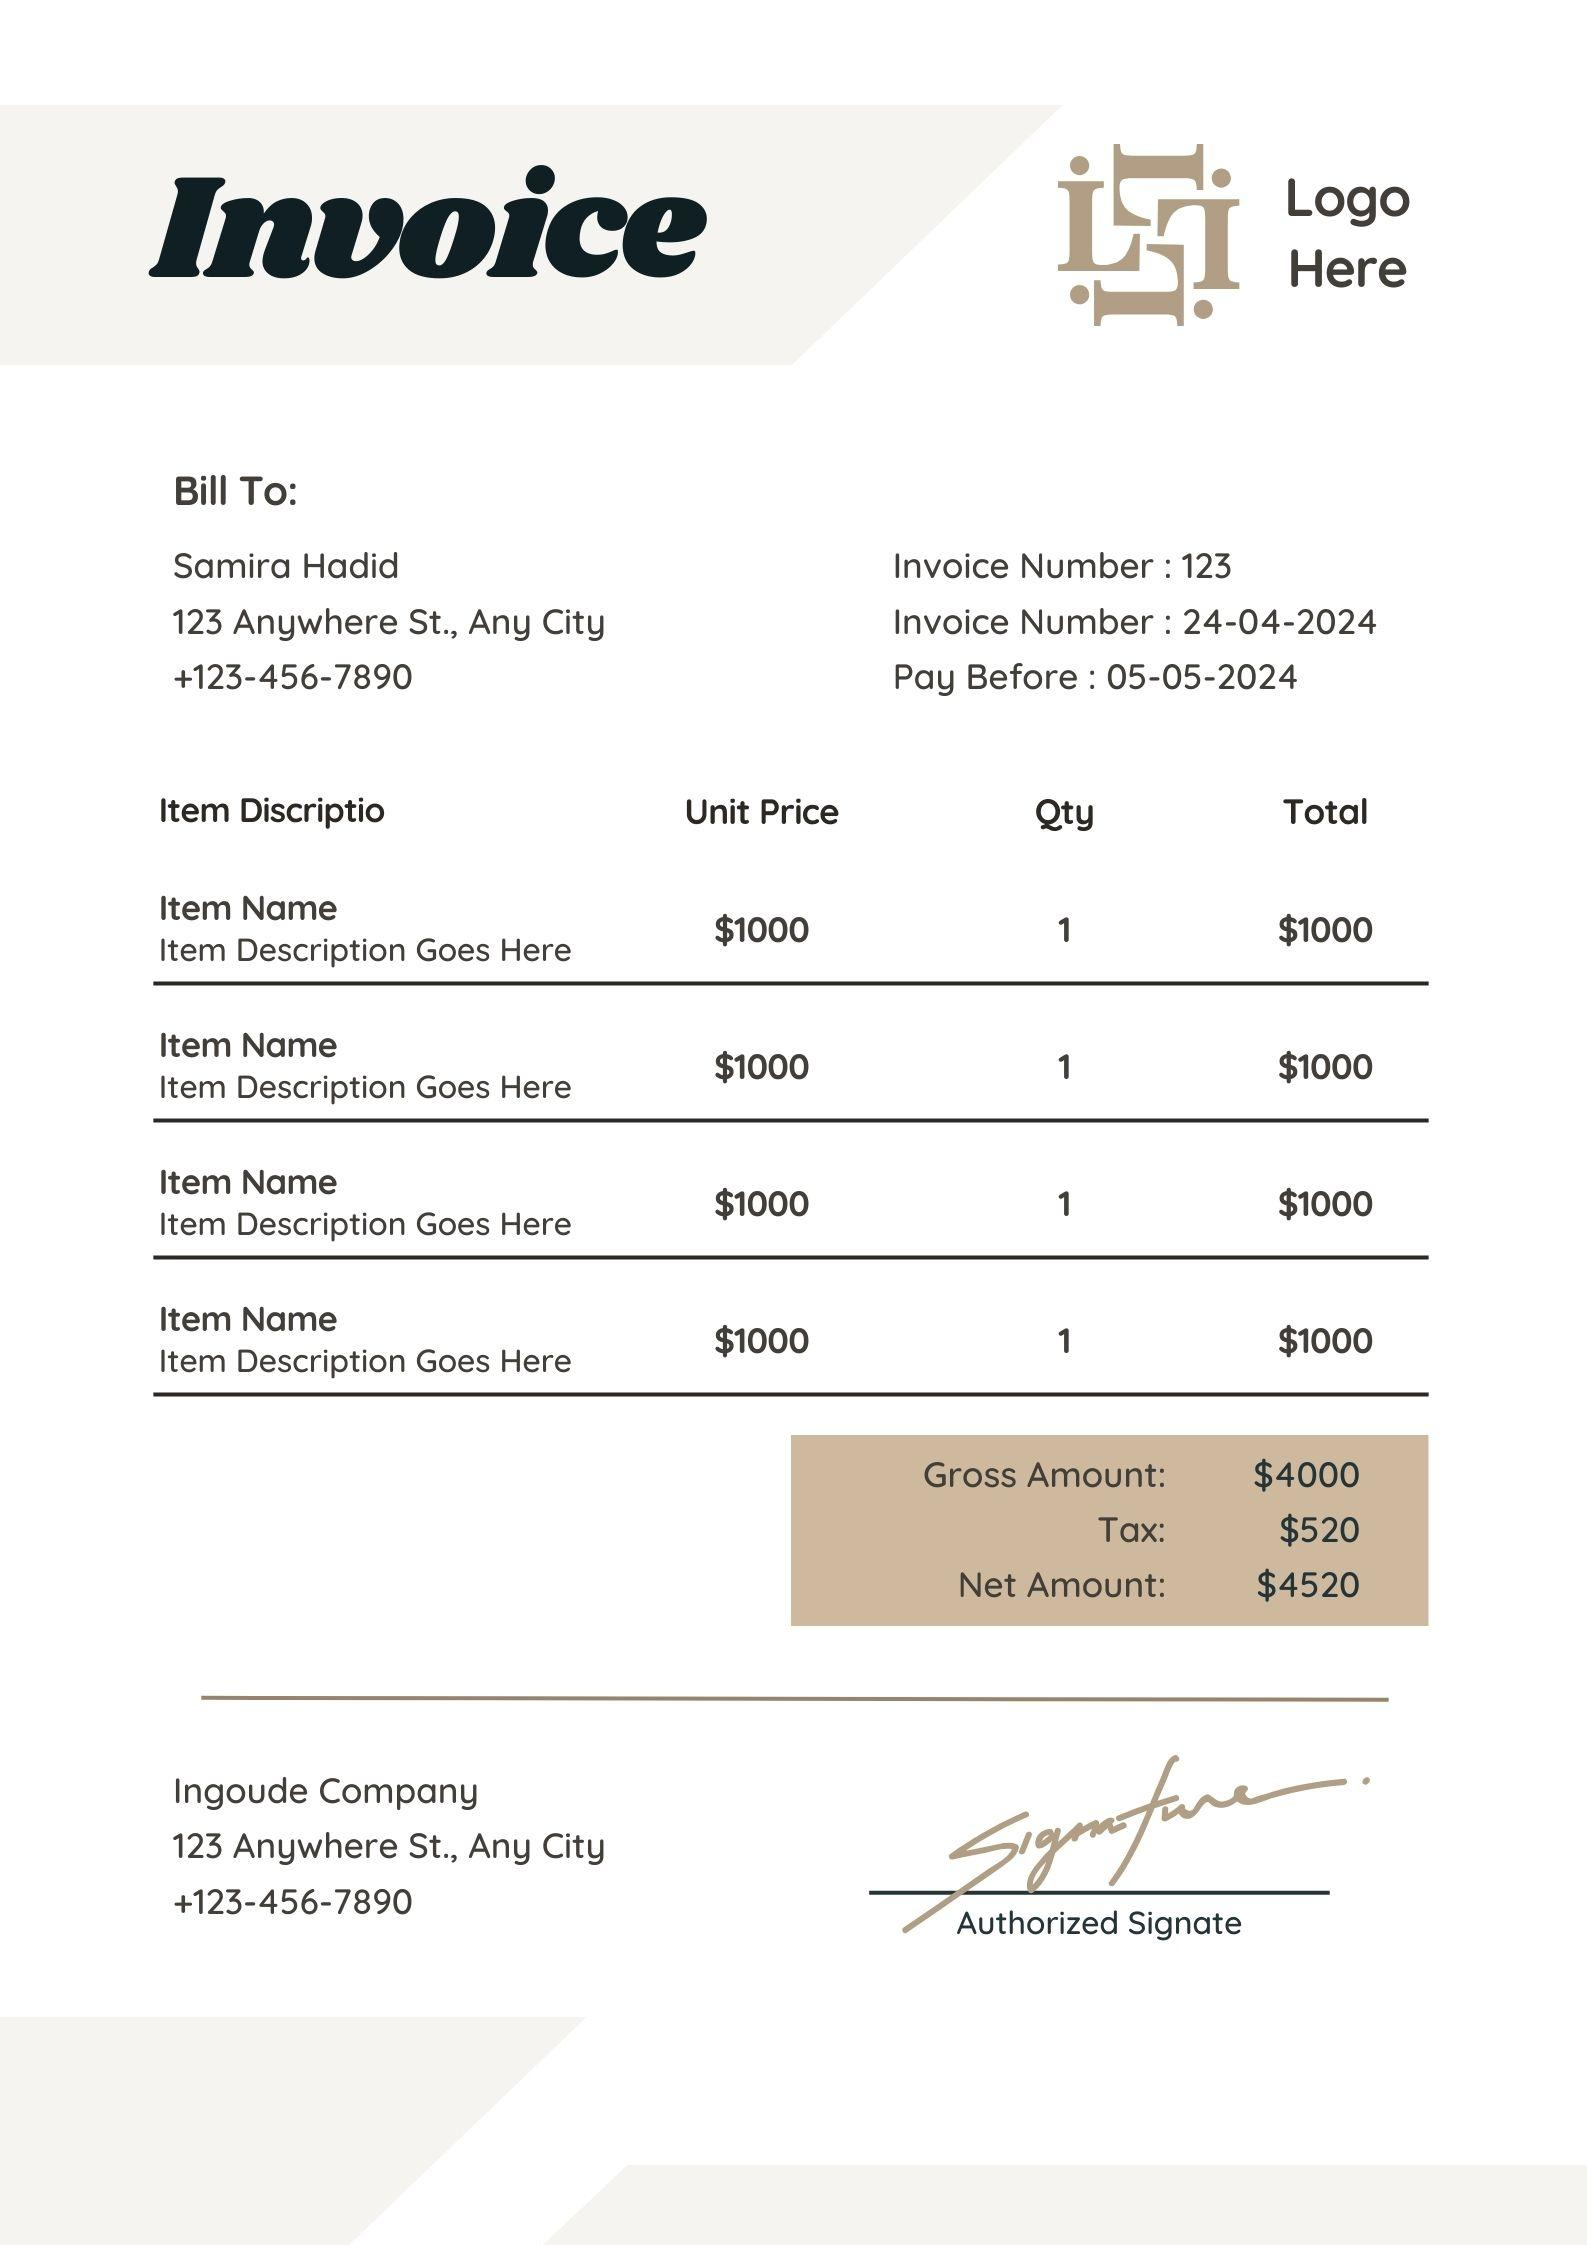ROI: (106, 744, 1474, 1390), (96, 426, 663, 713), (790, 1433, 1431, 1623), (843, 507, 1403, 716), (117, 1743, 649, 1956)
